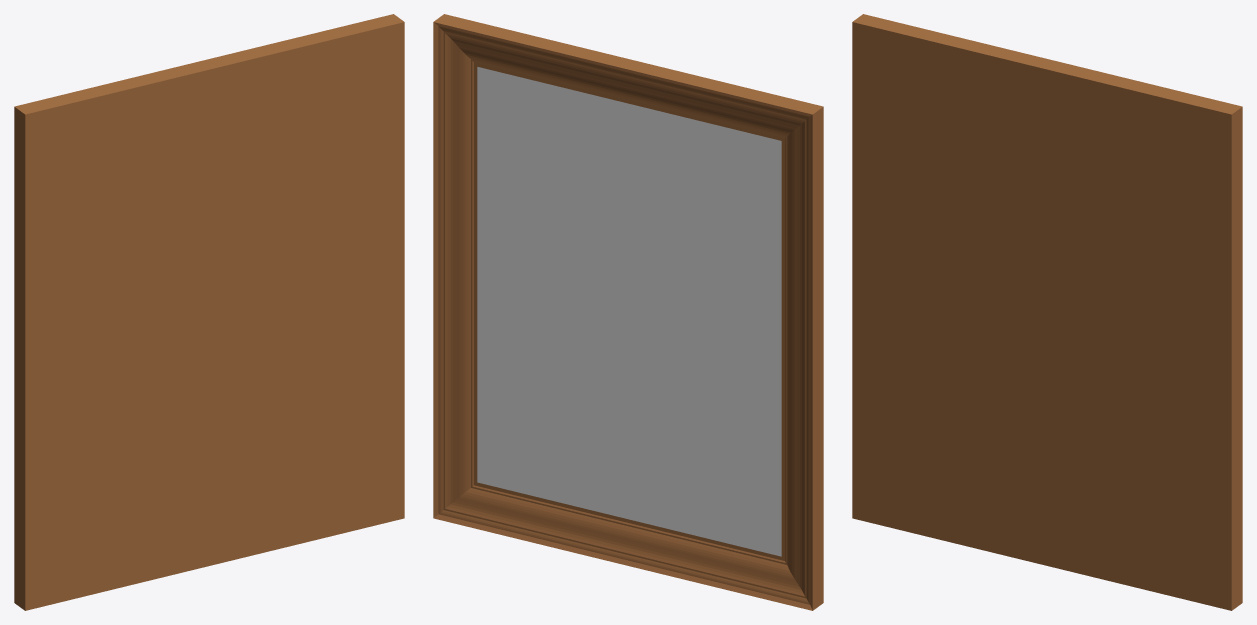
File: portrait-cadre.glb
3 views of the same model, side by side, from view 1: azimuth 30°, elevation 25°; view 2: azimuth 150°, elevation 25°; view 3: azimuth 330°, elevation 25° (orthographic).
Visible parts, largest first — view 1: Cube.001; view 2: Cube.001; view 3: Cube.001.
Part boxes in pixels (bbox=[...]): Cube.001: bbox=[14, 14, 404, 610]; Cube.001: bbox=[433, 14, 823, 610]; Cube.001: bbox=[852, 14, 1242, 610].
Bounding box in the file's own units: 2 × 2.5 × 0.1.
